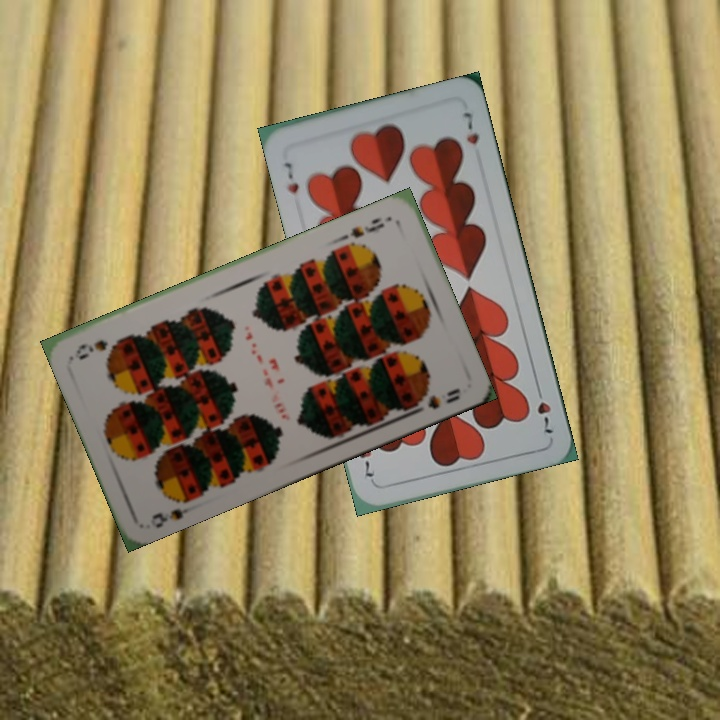H7: (532, 381, 555, 436), (280, 158, 302, 196)
S9: (148, 490, 197, 531), (346, 213, 387, 241)
